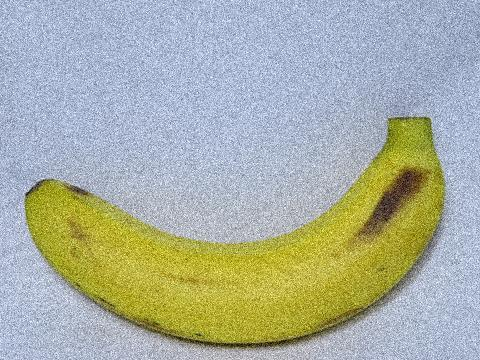freshripe: (13, 106, 453, 352)
